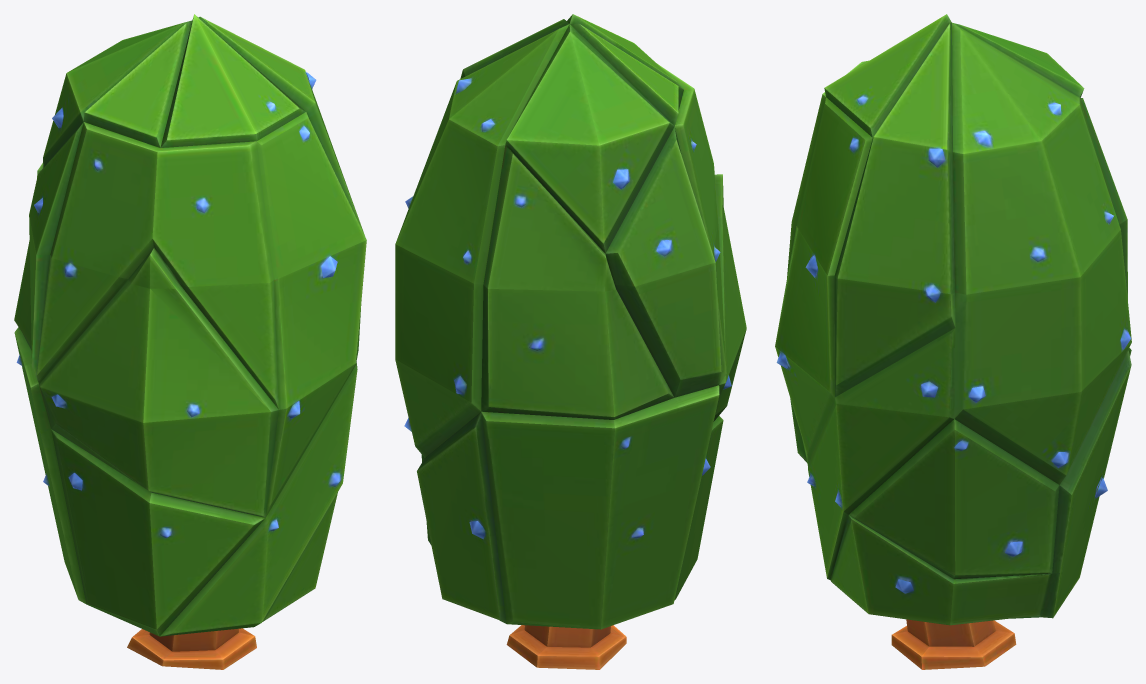
The model's file is obj_bush02_base.gltf.
The picture shows the model from 3 angles, left to right: view 1: azimuth 30°, elevation 25°; view 2: azimuth 150°, elevation 25°; view 3: azimuth 270°, elevation 25°; orthographic projection.
Parts seen in each view (by area): view 1: obj_bush02_base; view 2: obj_bush02_base; view 3: obj_bush02_base.
Boxes of the visible parts, x1,y1,x2,y2 form: obj_bush02_base: (14, 14, 366, 669); obj_bush02_base: (395, 14, 746, 669); obj_bush02_base: (775, 14, 1131, 669).
Size of what is drawn, in the model's own units: 1.2 by 2.35 by 1.2.
1 material, 1 textured.
